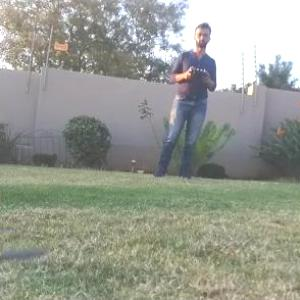follow: (146, 15, 219, 183)
